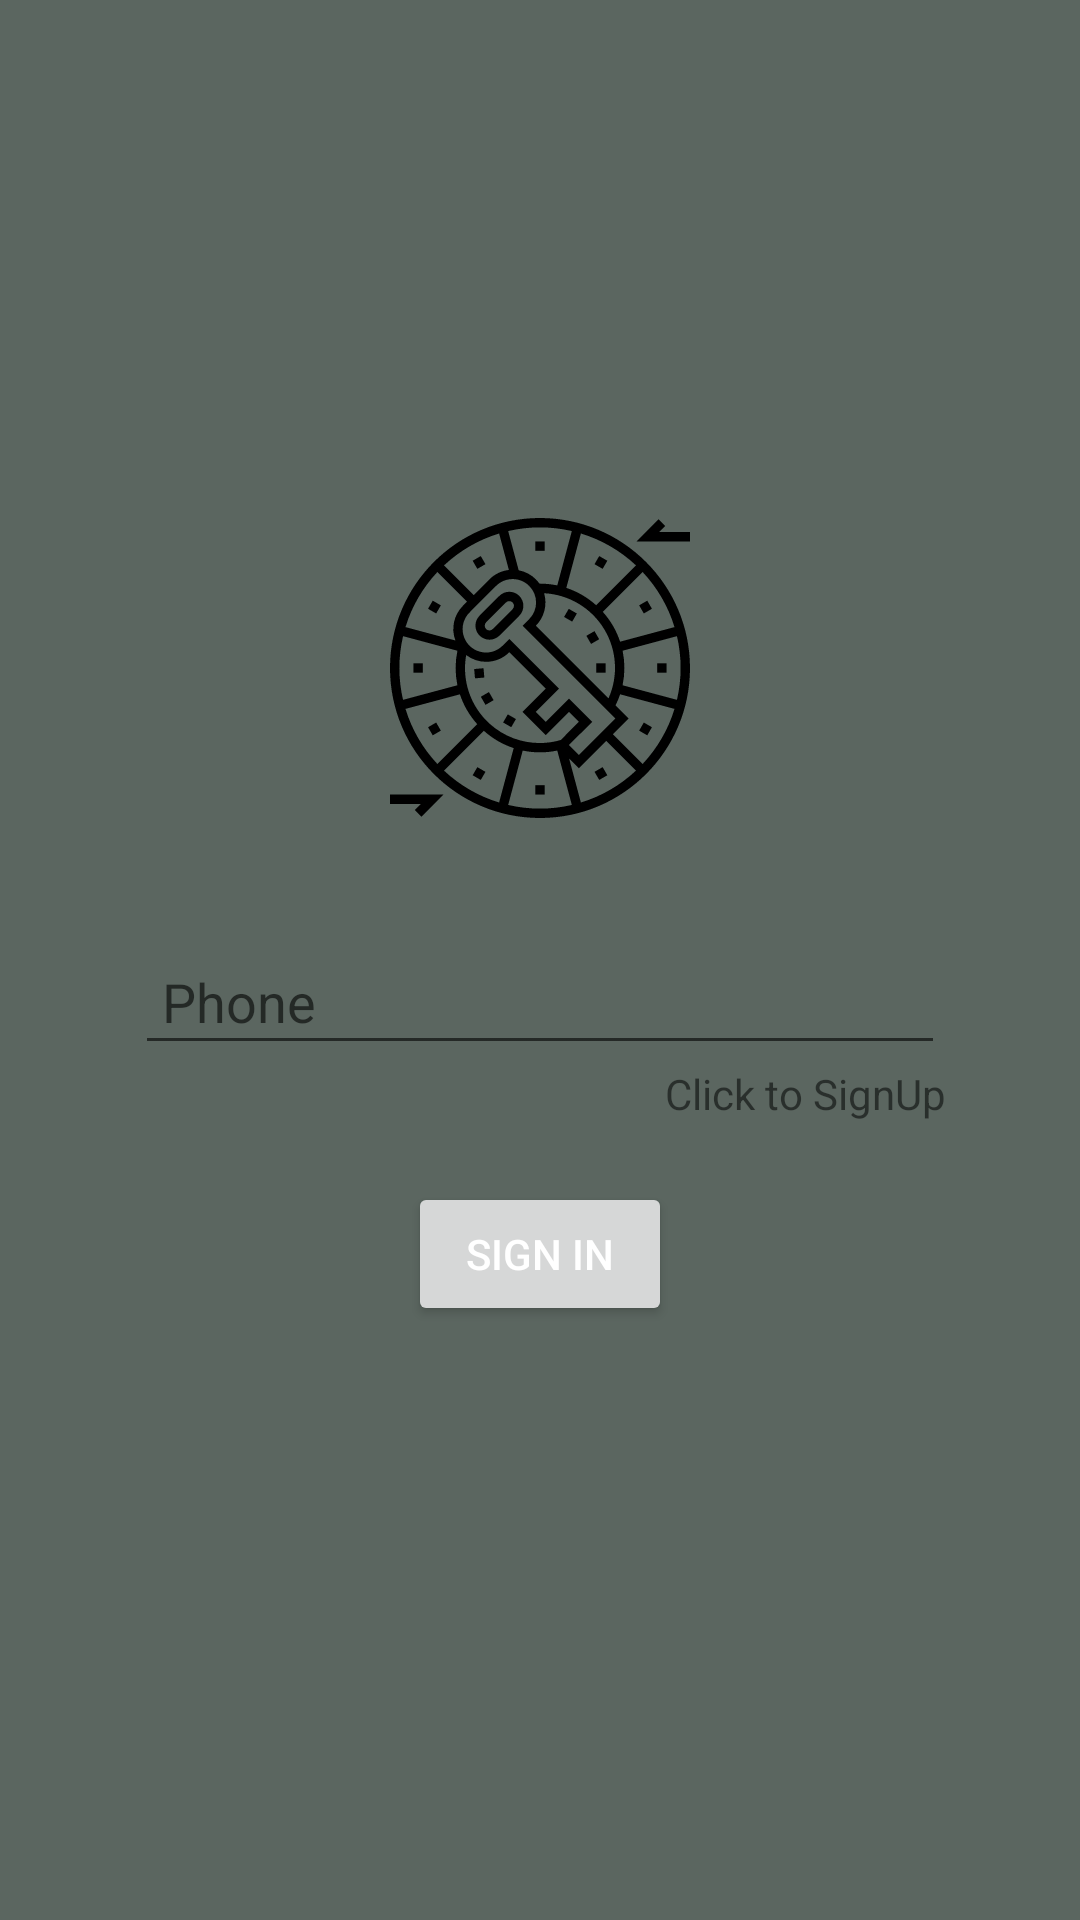

Screen size 1080w x 1920h. Icon name, then its center in pixels as (x,y):
cipher: (540,668)
